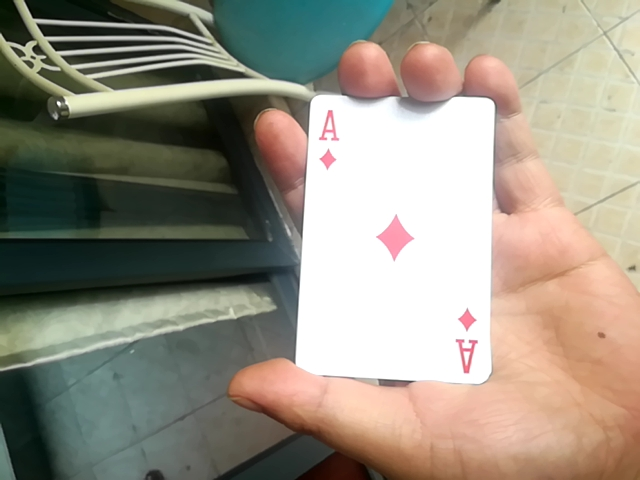fk a: (296, 90, 507, 387)
